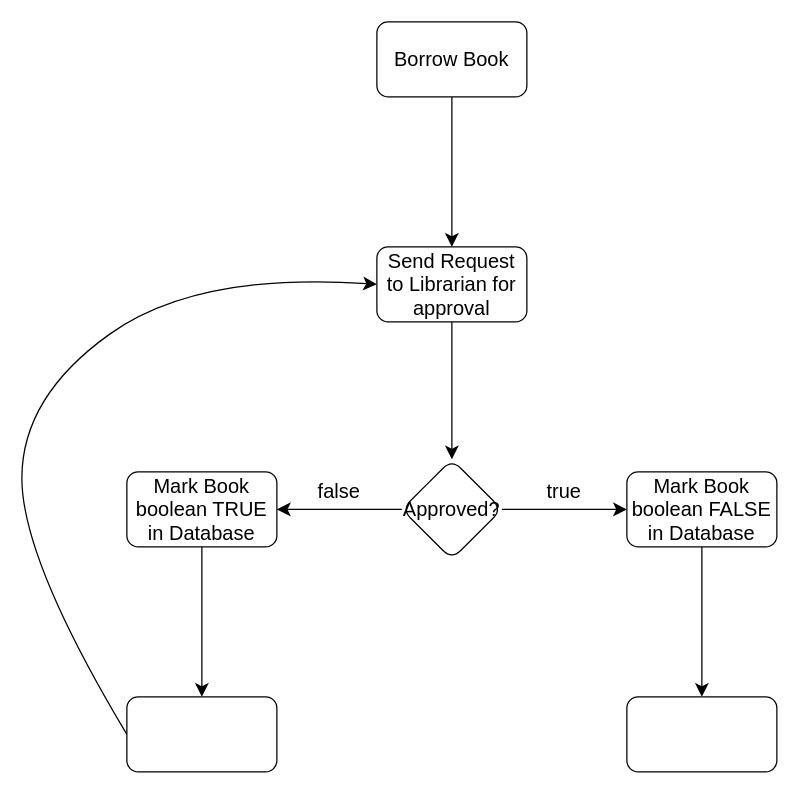
Image size: 799x794. Some labels were removed from this diagram. Each missing label, with the centre of its shape:
Students can borrow this book anytime: the point at 201,734
Students can't Borrow this Book anymore: the point at 701,734
